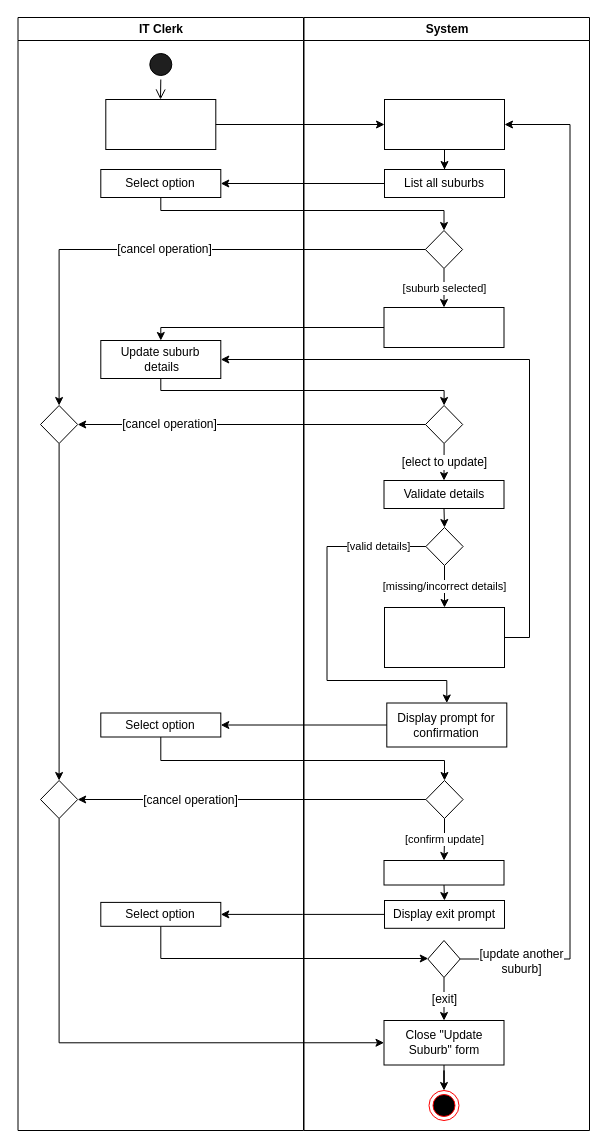
The diagram is 607 pixels wide and 1148 high, and some of its shapes have lost their labels. The centre of each missing label's shape, as x and y in pixels:
Display "Update Suburb" form: the point at 444,124
Display prompt for completion of all fields: the point at 444,637
Display suburb details: the point at 443,327
Save suburb details: the point at 443,872
Select "Update Suburb" option: the point at 160,124
